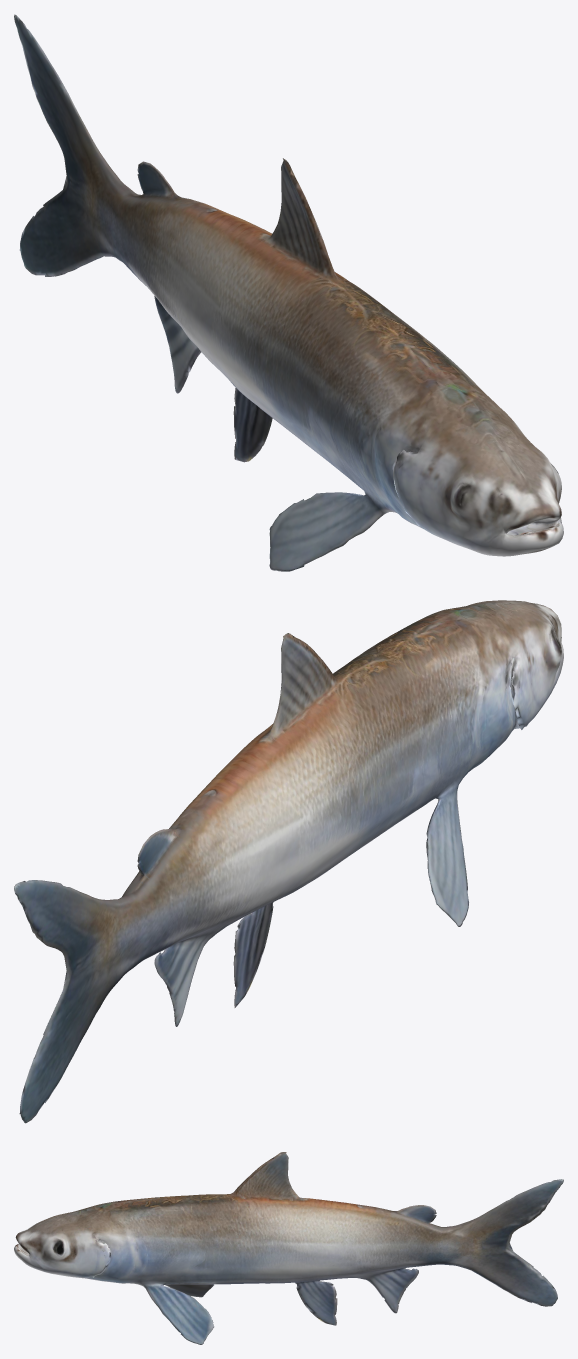
Rendered from omul.glb.
3 renders of one model, top to bottom at view 1: azimuth 30°, elevation 25°; view 2: azimuth 150°, elevation 25°; view 3: azimuth 270°, elevation 25°, orthographic. The views are drawn at different scales.
Visible parts, largest first — view 1: Mesh0; view 2: Mesh0; view 3: Mesh0.
Boxes of the visible parts, bbox=[...] form: Mesh0: bbox=[14, 14, 563, 571]; Mesh0: bbox=[14, 600, 563, 1123]; Mesh0: bbox=[14, 1152, 563, 1344].
Size of the model in its own units: 0.4095 by 0.6972 by 2.
Materials: 1 (1 with a texture image).
